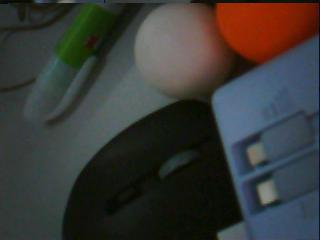oball: (216, 3, 319, 60)
